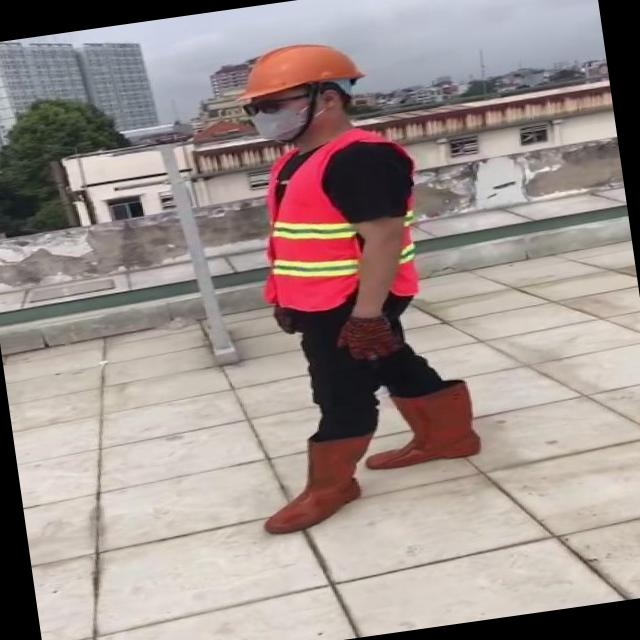hard_hat: (230, 34, 369, 104)
safety_vest: (247, 126, 424, 313)
vehicle: (192, 19, 493, 542)
work_boots: (252, 432, 382, 537), (367, 380, 486, 470)
